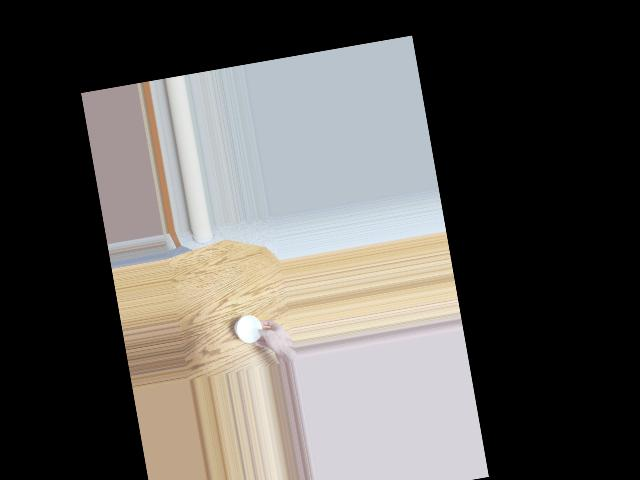cotage: (231, 306, 269, 347)
